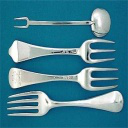fork: (8, 90, 124, 120)
